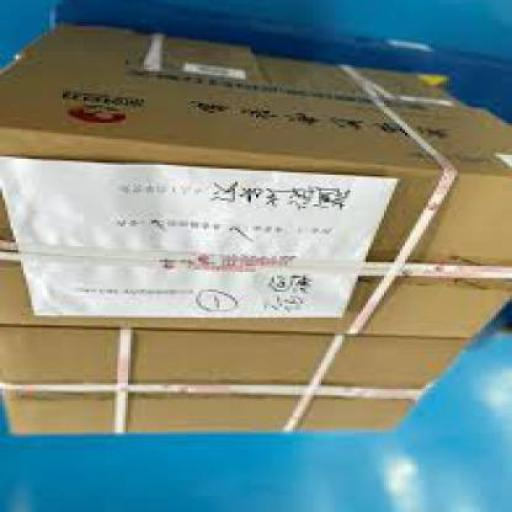cardboard: (0, 22, 510, 438)
metal: (0, 154, 395, 324)
